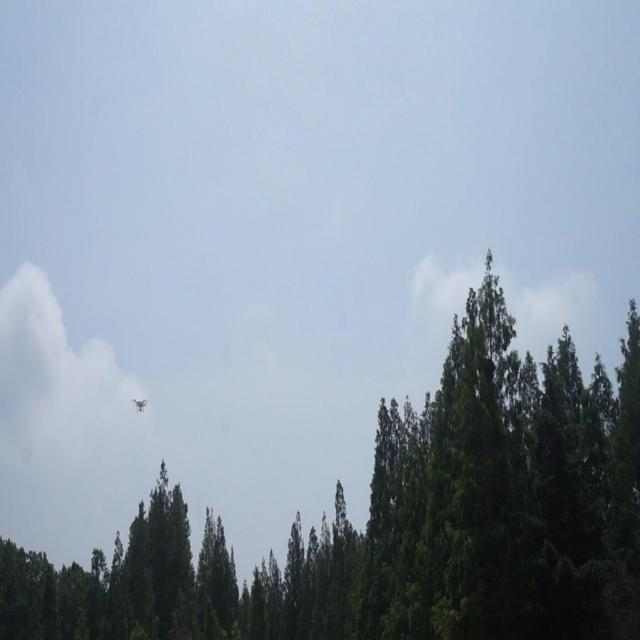UAV: (130, 398, 148, 414)
